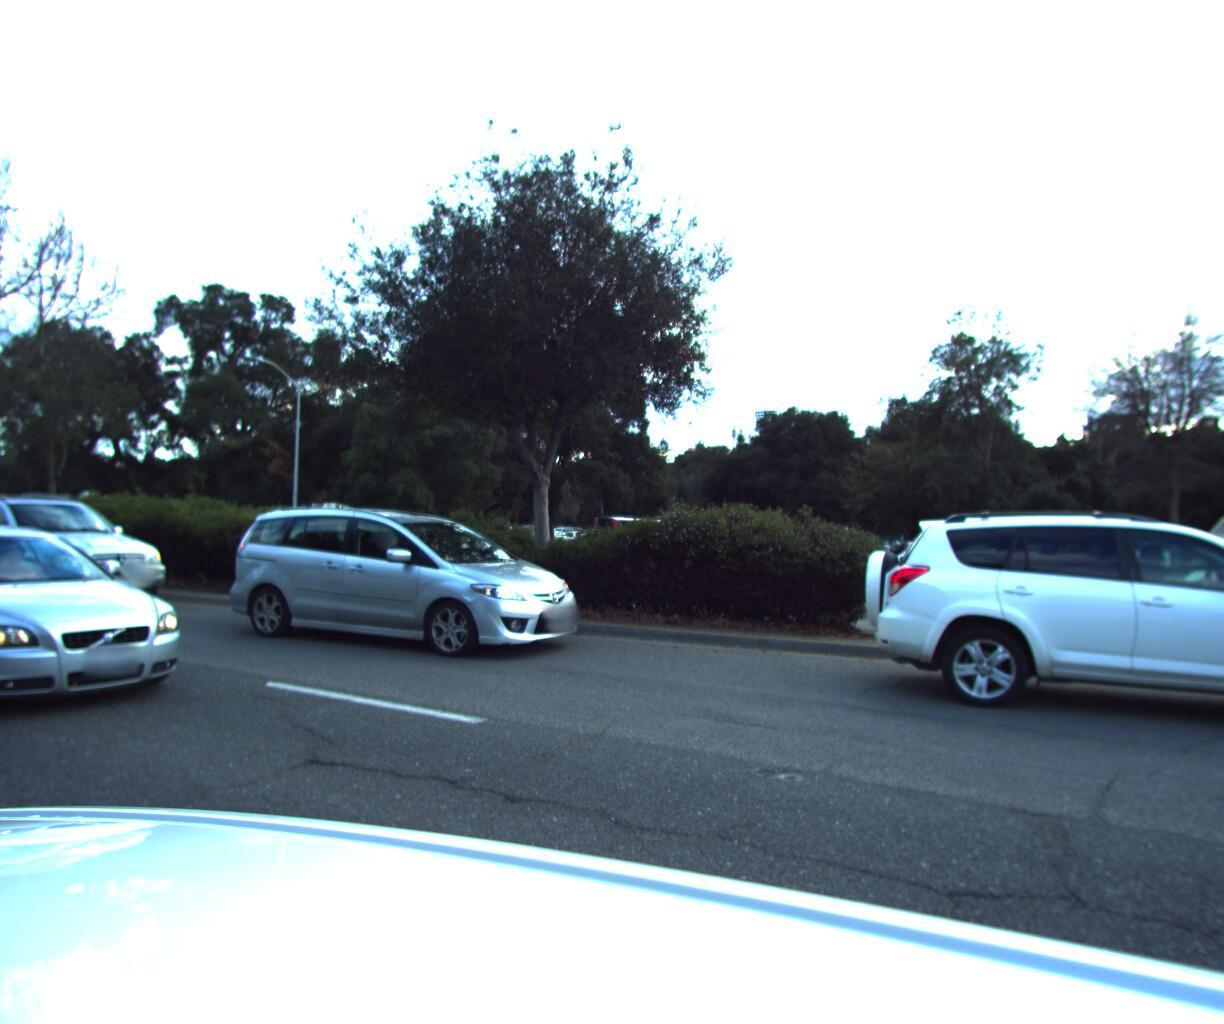car: (823, 503, 1224, 761), (211, 496, 595, 665), (0, 513, 220, 739), (0, 490, 178, 614), (834, 536, 1036, 616)
other_vehicle: (223, 497, 381, 568), (17, 485, 147, 558), (1175, 483, 1224, 661)
